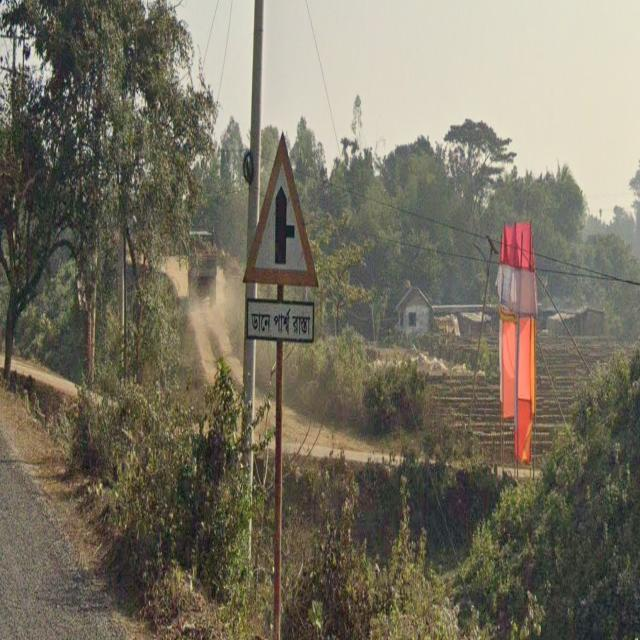Side-road-right: (241, 132, 321, 348)
